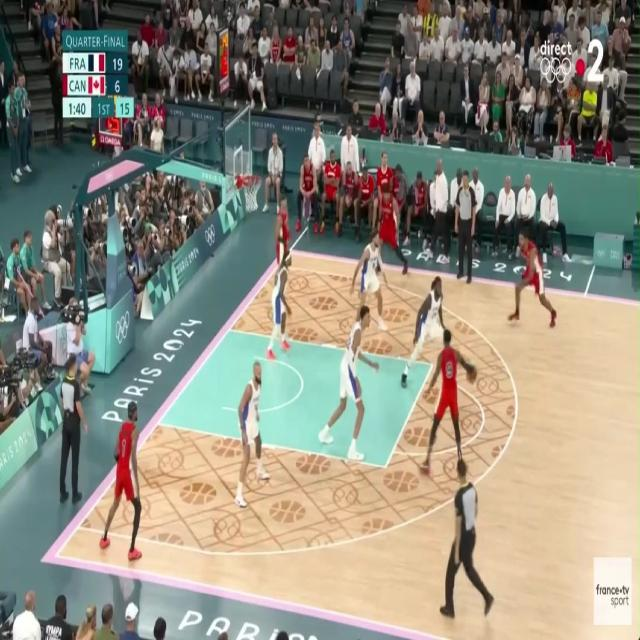ball_handler: (423, 329, 477, 474)
